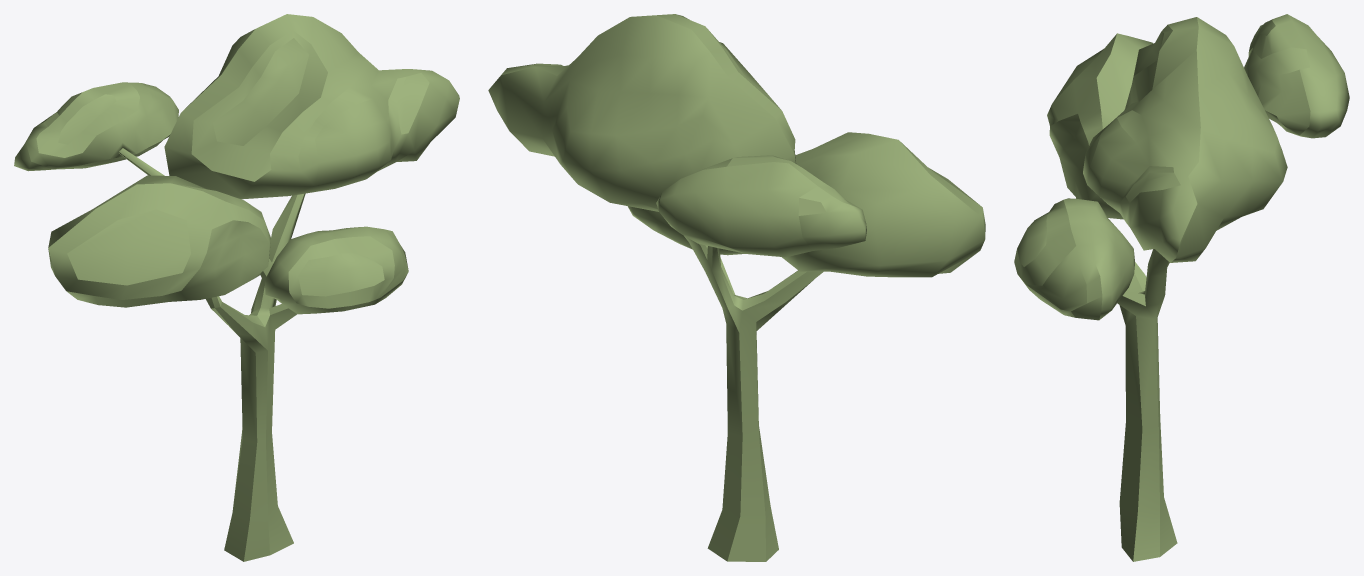
Rendered from grassy_tree1_mesh.fbx.
3 renders of one model, left to right at view 1: azimuth 30°, elevation 25°; view 2: azimuth 150°, elevation 25°; view 3: azimuth 270°, elevation 25°, orthographic. The views are drawn at different scales.
Parts seen in each view (by area): view 1: grassy_tree_mesh; view 2: grassy_tree_mesh; view 3: grassy_tree_mesh.
Part boxes in pixels (box(x1,y1,x2,y2)): grassy_tree_mesh: box(14, 14, 459, 561); grassy_tree_mesh: box(488, 14, 985, 561); grassy_tree_mesh: box(1014, 14, 1349, 561).
Bounding box in the file's own units: 0.9807 × 1.08 × 0.6016.
